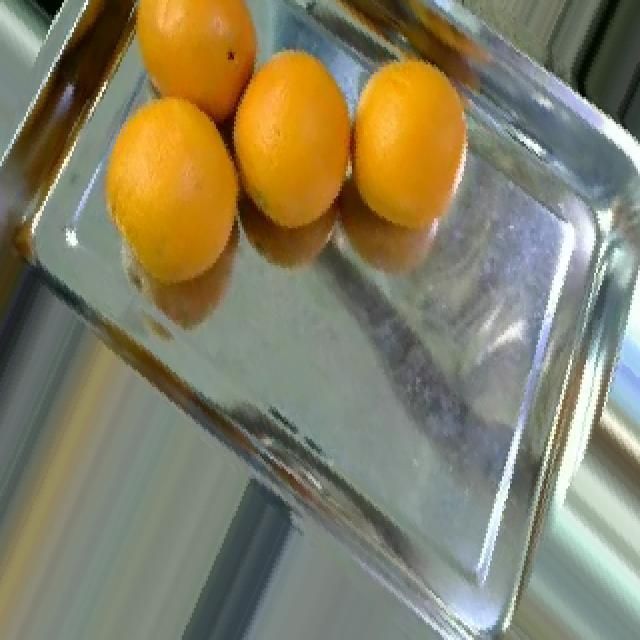Good_Orange: (104, 97, 240, 288), (232, 50, 350, 233), (352, 60, 466, 233), (134, 0, 260, 129)
